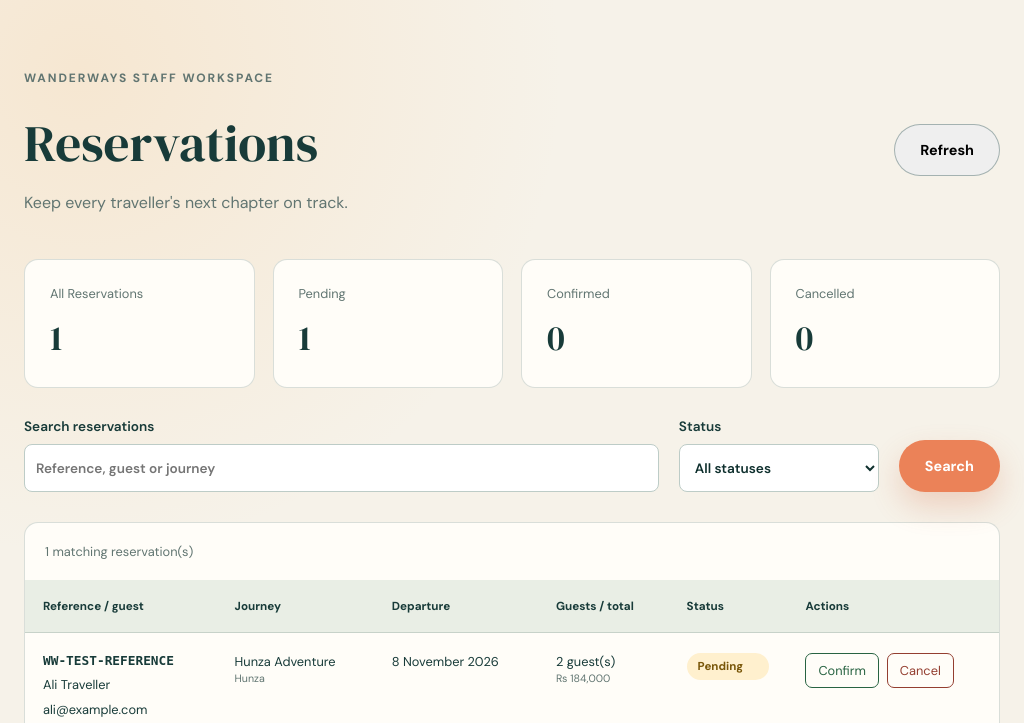
Staff reservation experience › requires cancellation confirmation and allows keeping the reservation
The image size is (1024, 723).
Click the button "Cancel": (920, 670) [887, 653, 954, 688]
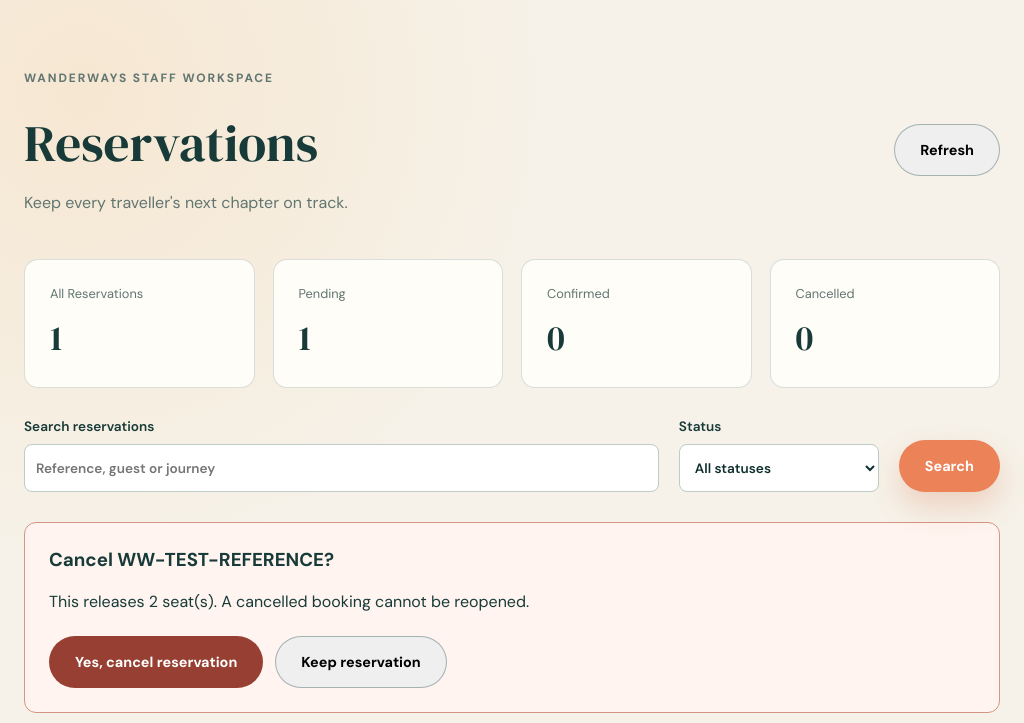
Result: the element named "Confirm cancellation" is shown at [24, 522, 1000, 713]
Click the button "Keep reservation": (361, 662) [275, 636, 447, 688]
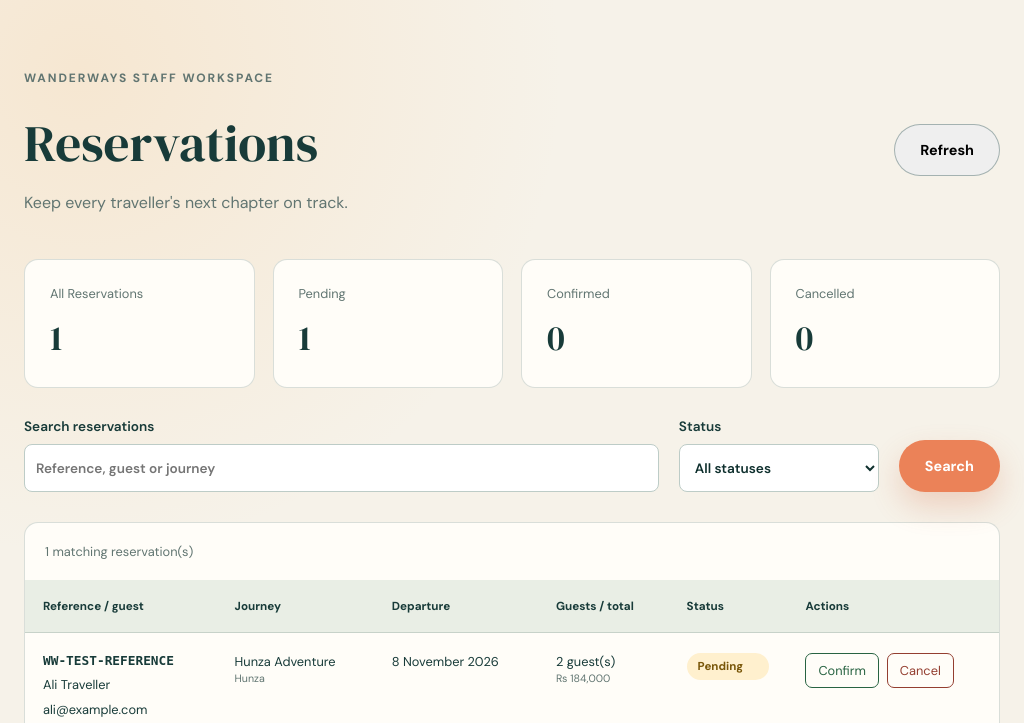
Click the button "Cancel": (920, 670) [887, 653, 954, 688]
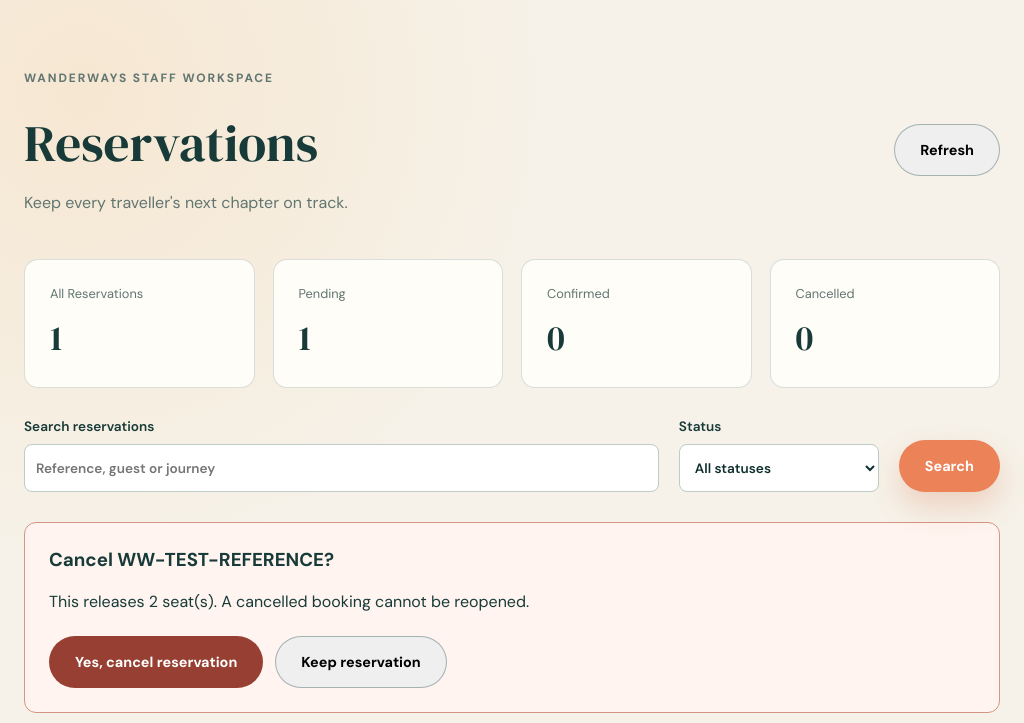
Click the button "Yes, cancel reservation": (156, 662) [49, 636, 263, 688]
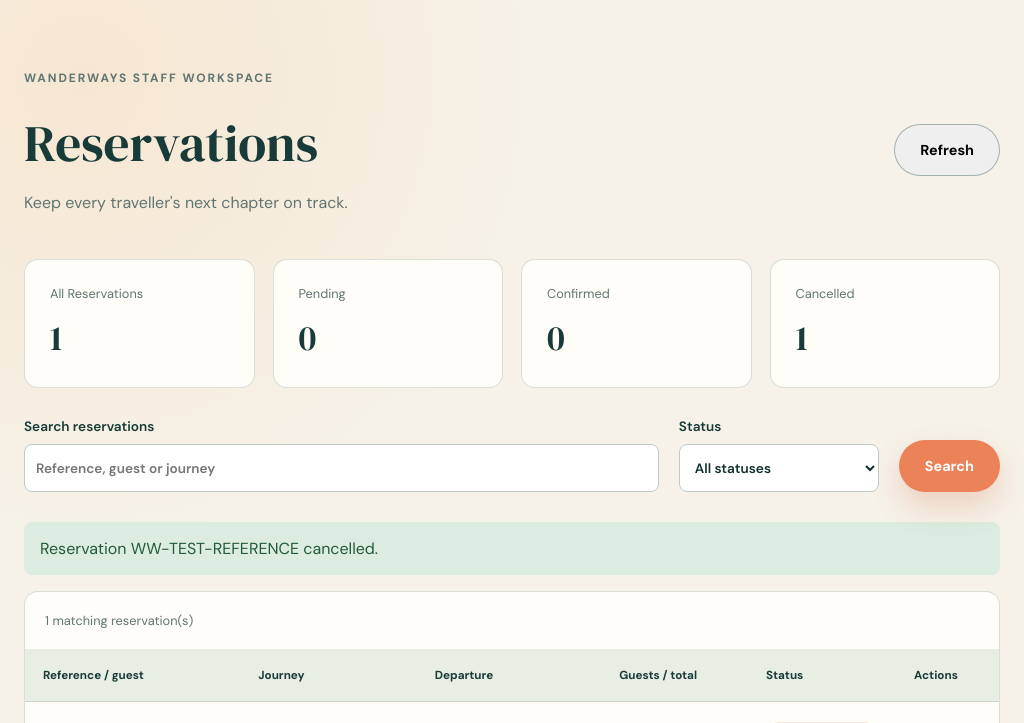
Result: the text "Reservation WW-TEST-REFERENCE cancelled." is shown at [24, 522, 1000, 575]
